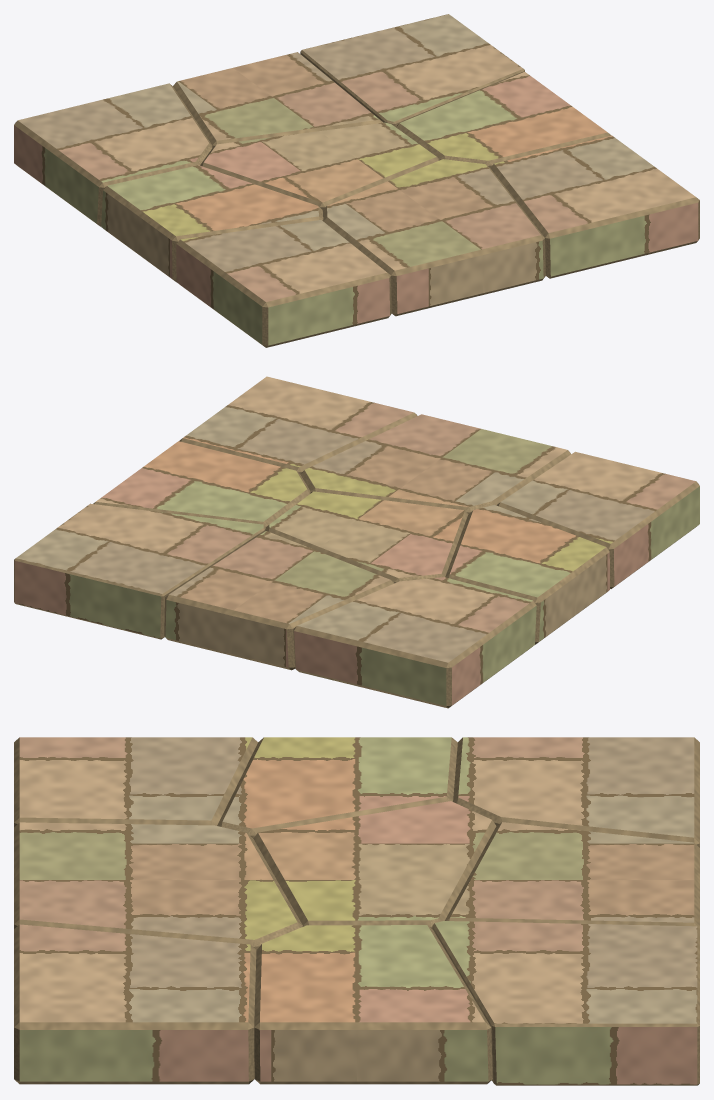
The model's file is Kit_Stone_Floor_Fractured.fbx.
3 renders of one model, top to bottom at view 1: azimuth 30°, elevation 25°; view 2: azimuth 150°, elevation 25°; view 3: azimuth 270°, elevation 25°, orthographic. The views are drawn at different scales.
Parts seen in each view (by area): view 1: Kit_Stone_Floor_frag_04, Kit_Stone_Floor_frag_01, Kit_Stone_Floor_frag_07, Kit_Stone_Floor_frag_03, Kit_Stone_Floor_frag_09, Kit_Stone_Floor_frag_02, Kit_Stone_Floor_frag_05, Kit_Stone_Floor_frag_06, Kit_Stone_Floor_frag_08; view 2: Kit_Stone_Floor_frag_03, Kit_Stone_Floor_frag_09, Kit_Stone_Floor_frag_06, Kit_Stone_Floor_frag_04, Kit_Stone_Floor_frag_01, Kit_Stone_Floor_frag_02, Kit_Stone_Floor_frag_07, Kit_Stone_Floor_frag_05, Kit_Stone_Floor_frag_08; view 3: Kit_Stone_Floor_frag_09, Kit_Stone_Floor_frag_07, Kit_Stone_Floor_frag_08, Kit_Stone_Floor_frag_04, Kit_Stone_Floor_frag_03, Kit_Stone_Floor_frag_05, Kit_Stone_Floor_frag_06, Kit_Stone_Floor_frag_01, Kit_Stone_Floor_frag_02.
Part boxes in pixels (<box>): Kit_Stone_Floor_frag_04: <box>322,159,545,316</box>; Kit_Stone_Floor_frag_01: <box>176,220,391,347</box>; Kit_Stone_Floor_frag_07: <box>490,135,699,278</box>; Kit_Stone_Floor_frag_03: <box>14,83,212,226</box>; Kit_Stone_Floor_frag_09: <box>300,14,524,127</box>; Kit_Stone_Floor_frag_02: <box>101,165,323,282</box>; Kit_Stone_Floor_frag_05: <box>200,122,439,209</box>; Kit_Stone_Floor_frag_06: <box>173,52,383,147</box>; Kit_Stone_Floor_frag_08: <box>396,72,611,167</box>; Kit_Stone_Floor_frag_03: <box>293,577,536,708</box>; Kit_Stone_Floor_frag_09: <box>14,503,265,639</box>; Kit_Stone_Floor_frag_06: <box>164,531,394,670</box>; Kit_Stone_Floor_frag_04: <box>301,414,570,514</box>; Kit_Stone_Floor_frag_01: <box>497,451,699,588</box>; Kit_Stone_Floor_frag_02: <box>445,504,609,644</box>; Kit_Stone_Floor_frag_07: <box>179,376,417,474</box>; Kit_Stone_Floor_frag_05: <box>265,491,468,583</box>; Kit_Stone_Floor_frag_08: <box>93,441,310,526</box>; Kit_Stone_Floor_frag_09: <box>432,921,699,1085</box>; Kit_Stone_Floor_frag_07: <box>14,924,256,1084</box>; Kit_Stone_Floor_frag_08: <box>254,925,492,1084</box>; Kit_Stone_Floor_frag_04: <box>14,822,302,949</box>; Kit_Stone_Floor_frag_03: <box>453,737,699,847</box>; Kit_Stone_Floor_frag_05: <box>253,801,496,928</box>; Kit_Stone_Floor_frag_06: <box>445,822,699,928</box>; Kit_Stone_Floor_frag_01: <box>14,737,257,826</box>; Kit_Stone_Floor_frag_02: <box>217,737,457,838</box>.
Size of what is drawn, in the model's own units: 3 by 0.3 by 3.
2 materials, 2 textured.
